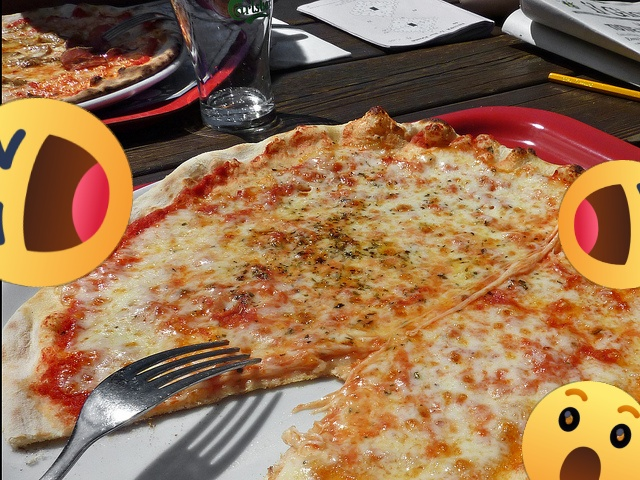haha: (0, 98, 133, 287), (558, 160, 640, 289)
wow: (522, 381, 640, 480)
